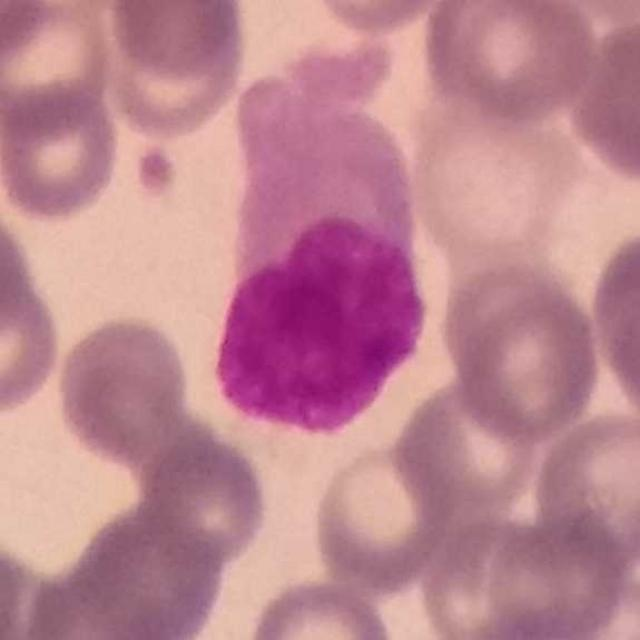mono: (213, 36, 427, 438)
